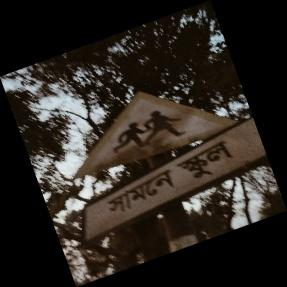School-in-front: (72, 92, 275, 264)
